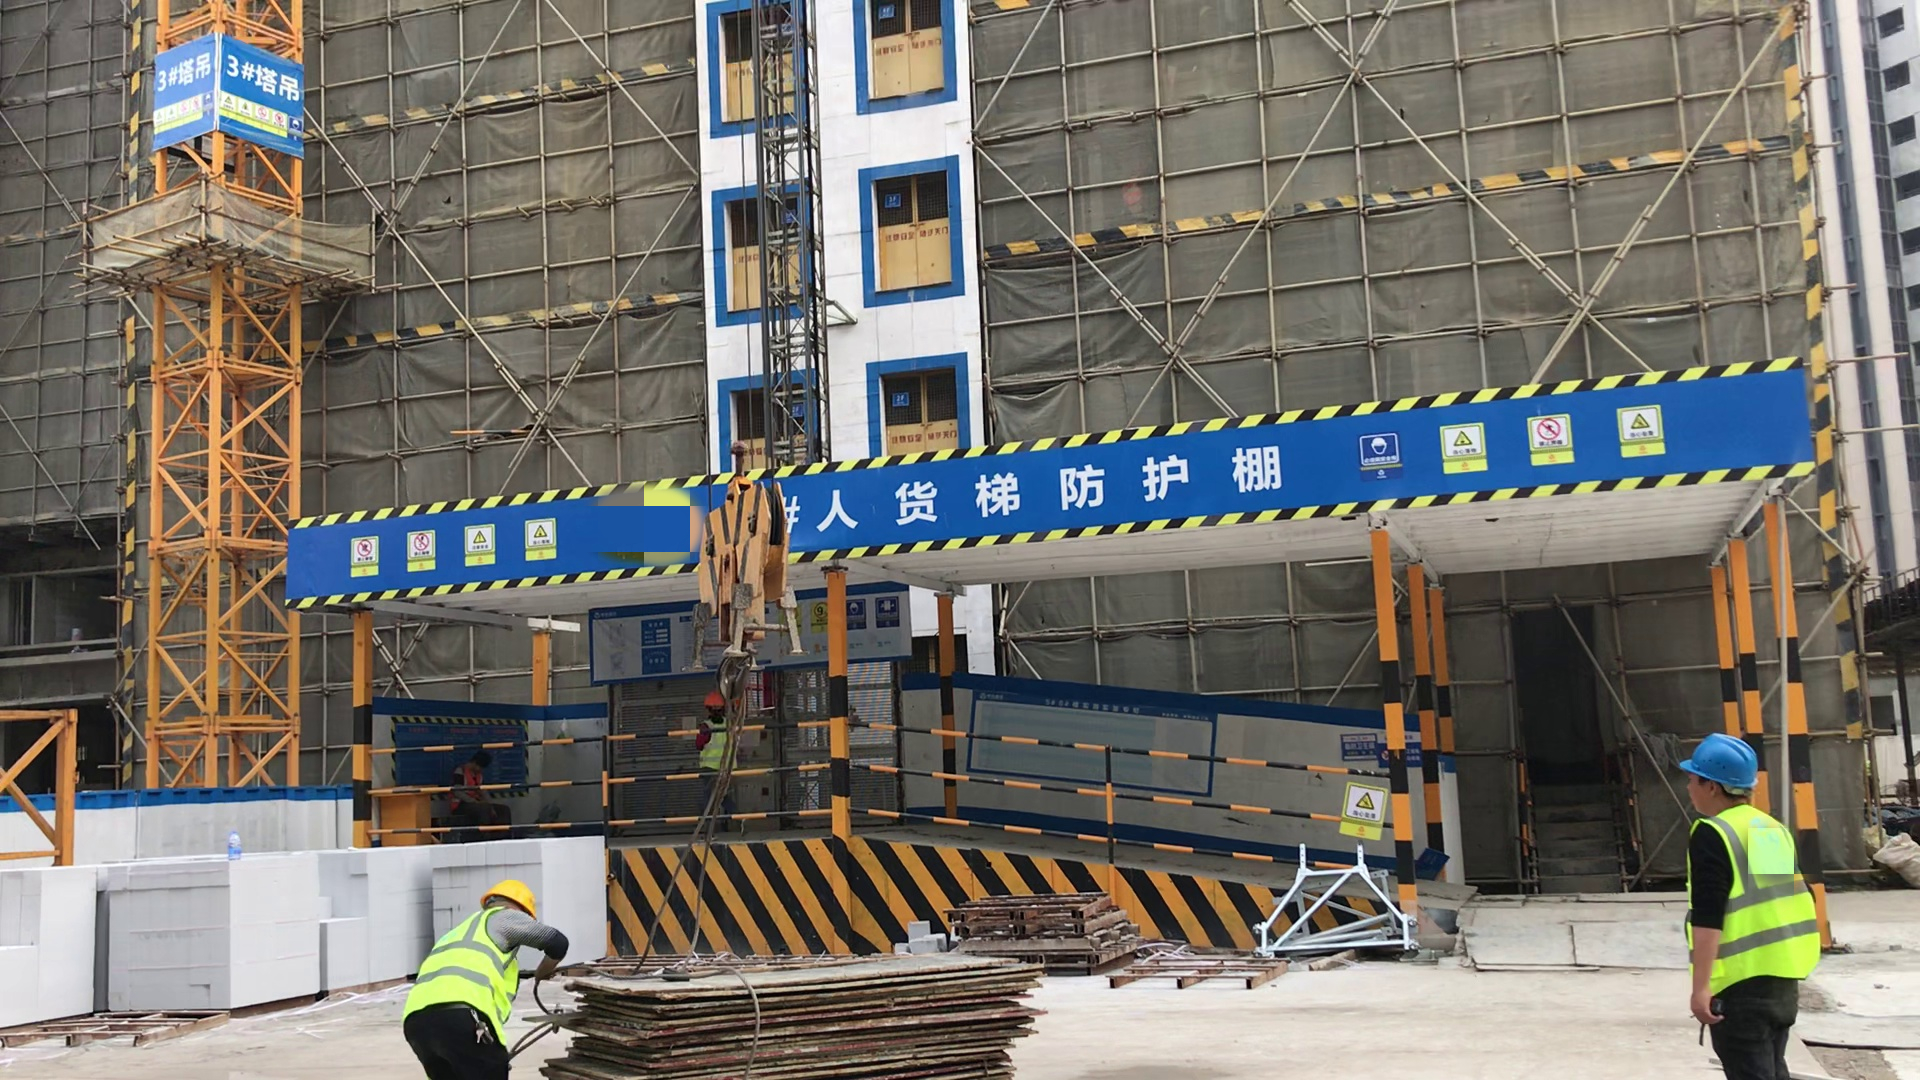board: (551, 956, 1049, 1080)
brick: (111, 856, 398, 1006), (403, 837, 605, 964), (1, 856, 98, 1022)
ebox: (374, 784, 432, 844)
helmet: (1679, 731, 1769, 793), (482, 878, 539, 920), (702, 692, 726, 711)
hook: (690, 443, 804, 695)
person: (1661, 715, 1830, 1080), (389, 882, 570, 1080), (697, 687, 747, 840), (449, 748, 517, 829)
slogan: (817, 443, 1279, 536), (1354, 404, 1675, 487), (151, 33, 306, 155), (341, 519, 564, 579), (1336, 769, 1390, 847)
vest: (1682, 806, 1821, 1005), (409, 905, 527, 1035), (699, 717, 740, 775), (458, 765, 483, 806)
